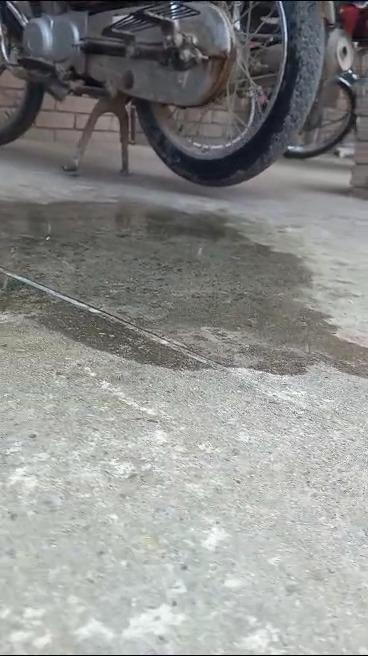water accumulation: (0, 198, 368, 374)
